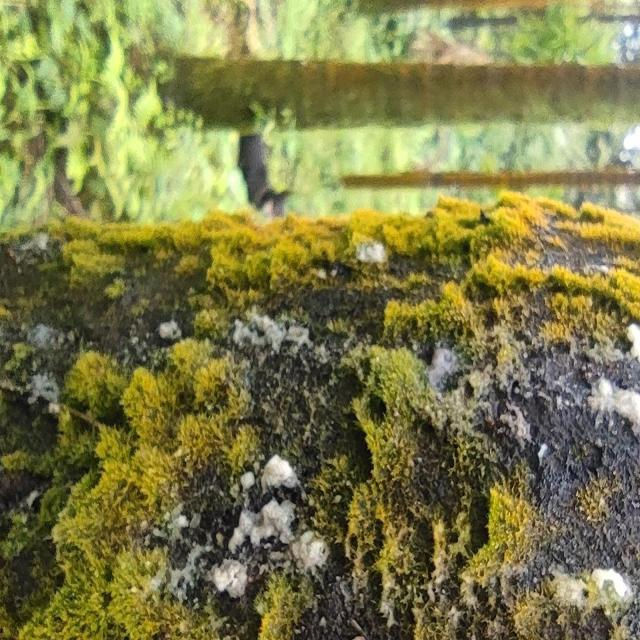Stem_Bleeding: (153, 210, 452, 546)
